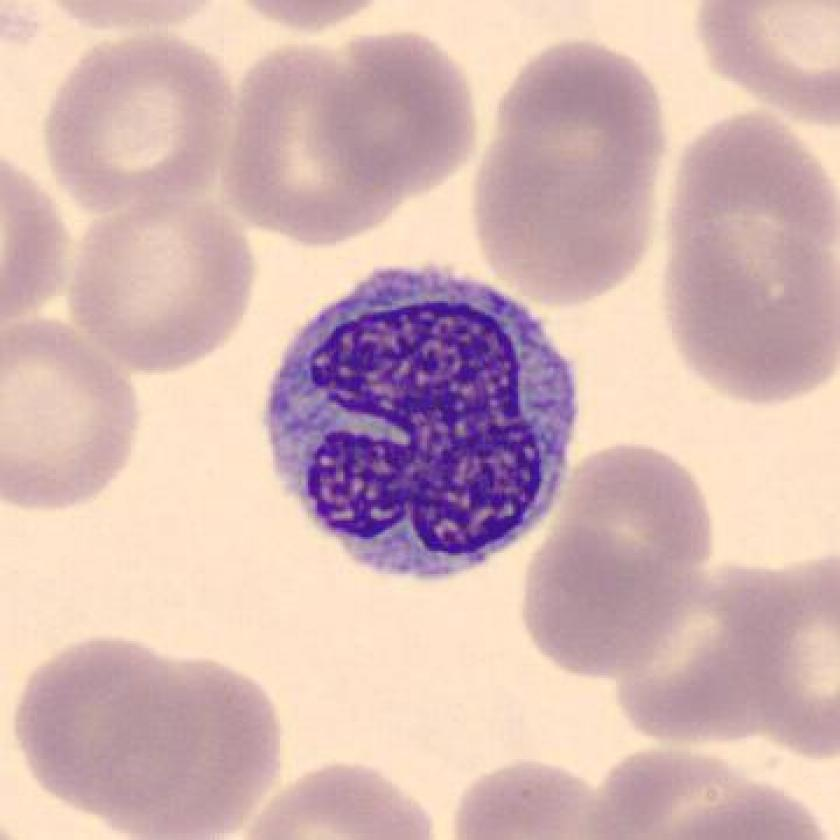monocyte: (244, 242, 598, 603)
